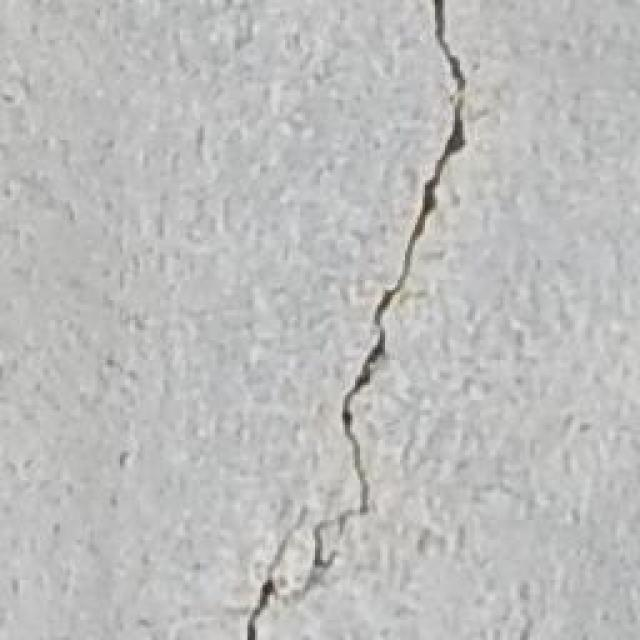concrete-crack: (243, 0, 472, 640)
